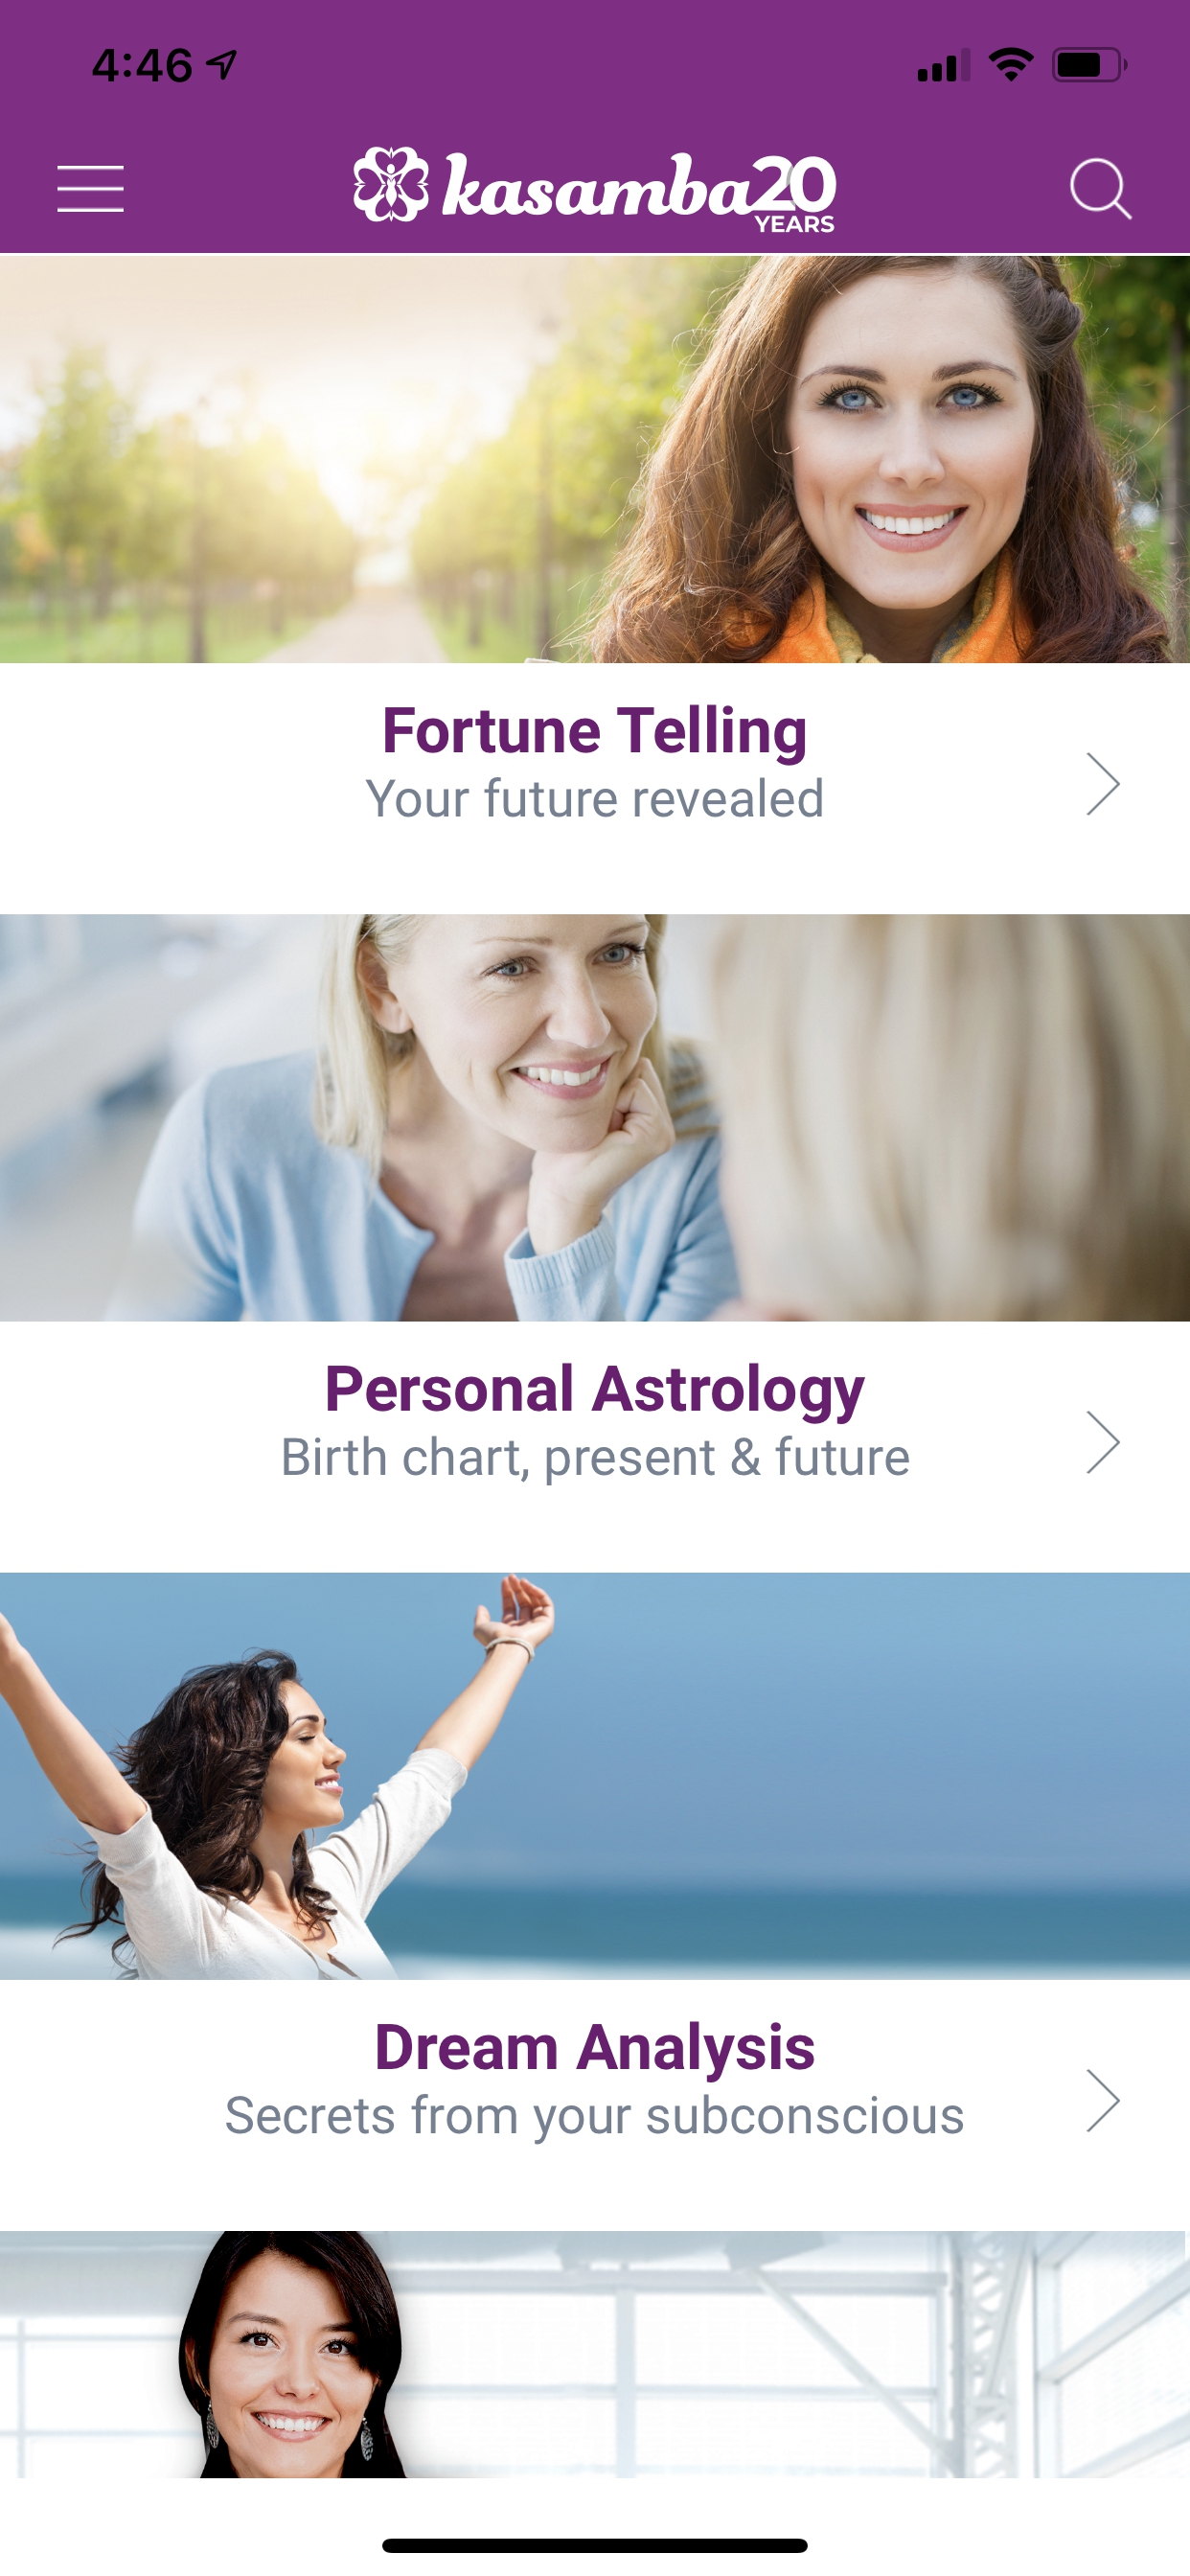Icon: (1068, 158, 1132, 222), (58, 164, 125, 214), (1085, 2068, 1119, 2132), (1086, 1396, 1119, 1457), (1088, 754, 1119, 815)
Image: (2, 1572, 1190, 1980), (2, 913, 1190, 1321), (2, 256, 1190, 664), (2, 2231, 1190, 2477), (353, 146, 837, 233)
Text: (227, 2093, 963, 2146), (327, 1364, 865, 1424), (284, 1436, 909, 1487), (378, 2021, 814, 2083), (385, 705, 805, 767), (365, 777, 822, 818)
UpperTaskBar: (92, 48, 1128, 84)
